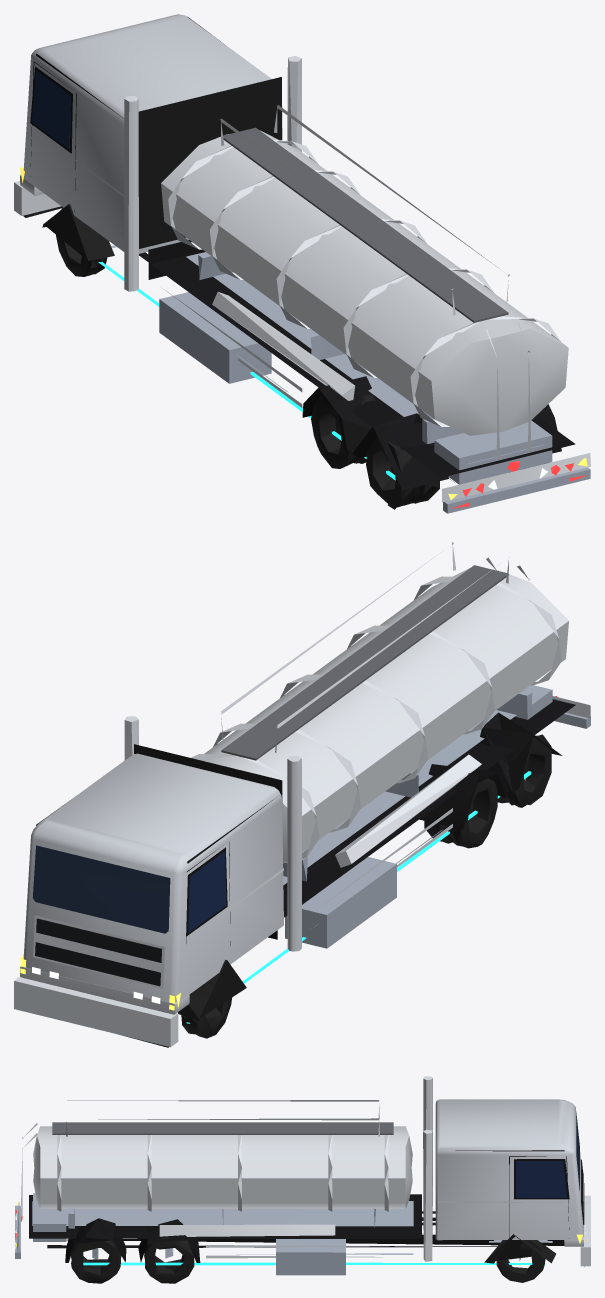
The model's file is dekotora_truck_tanker_lod2.glb.
3 renders of one model, top to bottom at view 1: azimuth 30°, elevation 25°; view 2: azimuth 150°, elevation 25°; view 3: azimuth 270°, elevation 25°, orthographic. The views are drawn at different scales.
Parts seen in each view (by area): view 1: lod2_tank_shell, lod2_paint_white_panel, lod2_chrome, lod2_steel, lod2_plastic_black, lod2_plastic_trim, lod2_diamond, lod2_rubber_tire, lod2_glass; view 2: lod2_paint_white_panel, lod2_tank_shell, lod2_chrome, lod2_steel, lod2_plastic_black, lod2_diamond, lod2_glass_wind, lod2_rubber_tire, lod2_vent_slots, lod2_plastic_trim, lod2_glass; view 3: lod2_tank_shell, lod2_paint_white_panel, lod2_steel, lod2_chrome, lod2_plastic_black, lod2_diamond, lod2_rubber_tire, lod2_glass, lod2_lamp_cyan, lod2_plastic_trim.
Boxes of the visible parts, box(x1,y1,x2,y2) form: lod2_tank_shell: box(161, 130, 568, 435); lod2_paint_white_panel: box(20, 14, 282, 253); lod2_chrome: box(14, 56, 590, 502); lod2_steel: box(111, 245, 590, 513); lod2_plastic_black: box(23, 16, 575, 490); lod2_plastic_trim: box(42, 77, 281, 260); lod2_diamond: box(223, 127, 508, 322); lod2_rubber_tire: box(56, 208, 439, 509); lod2_glass: box(31, 70, 70, 149); lod2_paint_white_panel: box(20, 753, 283, 1014); lod2_tank_shell: box(201, 567, 568, 862); lod2_chrome: box(14, 542, 590, 1047); lod2_steel: box(283, 685, 590, 948); lod2_plastic_black: box(36, 699, 575, 1047); lod2_diamond: box(221, 565, 508, 760); lod2_glass_wind: box(32, 845, 170, 933); lod2_rubber_tire: box(181, 734, 551, 1038); lod2_vent_slots: box(35, 918, 162, 986); lod2_plastic_trim: box(134, 744, 282, 1021); lod2_glass: box(188, 851, 226, 932); lod2_tank_shell: box(33, 1126, 412, 1208); lod2_paint_white_panel: box(435, 1099, 583, 1246); lod2_steel: box(15, 1193, 552, 1275); lod2_chrome: box(16, 1076, 590, 1266); lod2_plastic_black: box(29, 1150, 584, 1266); lod2_diamond: box(52, 1122, 393, 1134); lod2_rubber_tire: box(71, 1237, 545, 1283); lod2_glass: box(516, 1161, 567, 1197); lod2_lamp_cyan: box(83, 1262, 545, 1265); lod2_plastic_trim: box(484, 1234, 555, 1263).
Size of the model in its own units: 2.79 by 3.52 by 11.82.
Materials: 15 (6 with a texture image).
